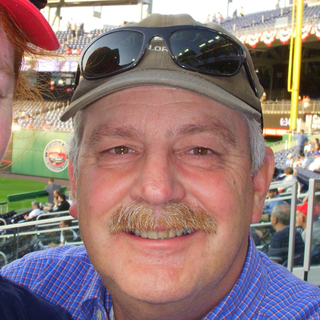eye: (177, 139, 223, 165), (96, 141, 145, 163)
